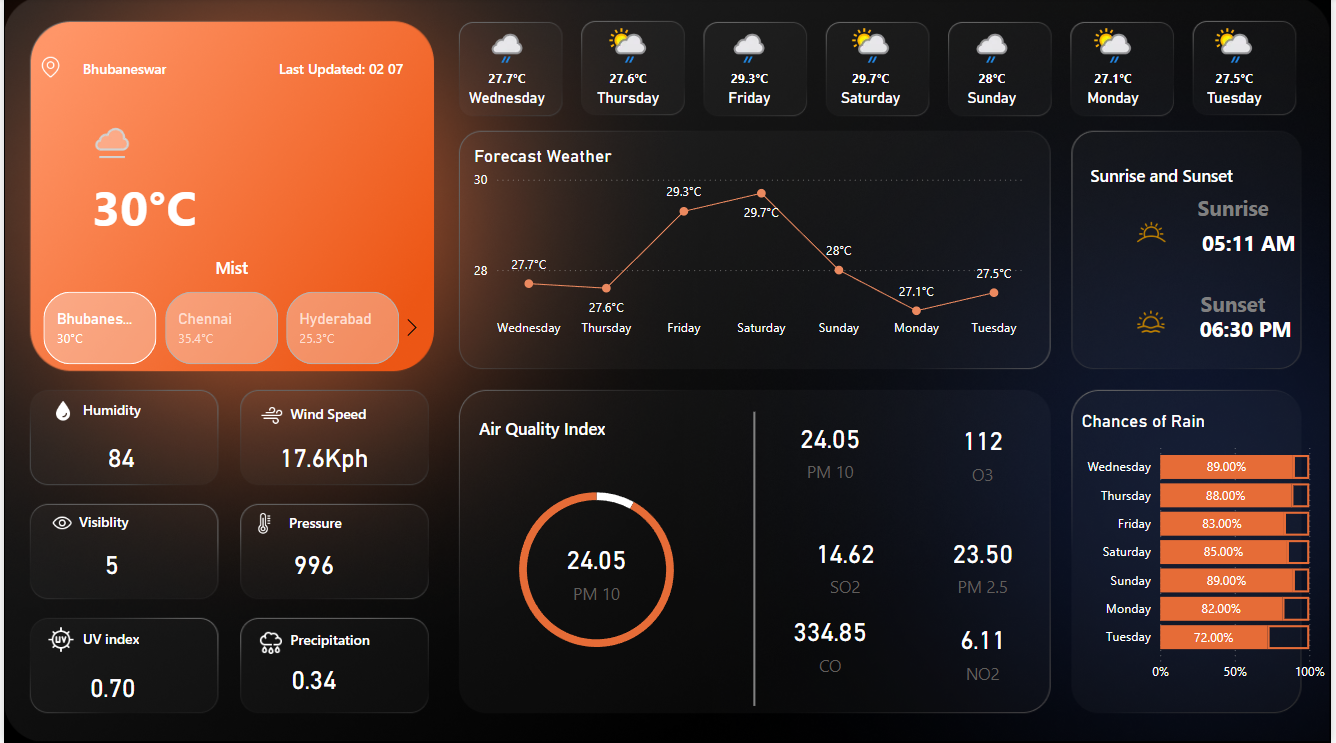

The dashboard page shown, as its layout file describes it:
{"tool":"powerbi","page":{"name":"Page 1","canvas":[1280,720],"ordinal":0},"visuals":[{"type":"advancedSlicerVisual","fields":{"Values":["Locations.location.name"]},"box":[13,278.7,395.9,80.7],"z":0},{"type":"shape","box":[30,164.1,211,74.2],"z":1000},{"type":"shape","box":[30,238.3,379,40.4],"z":2000},{"type":"shape","box":[75.5,57.3,135.5,22.1],"z":3000},{"type":"shape","box":[240.9,56,168,23.4],"z":4000},{"type":"image","box":[30,49.5,30,35.2],"z":5000},{"type":"cardVisual","fields":{"Data":["Min(Current.current.condition.icon)"]},"box":[59.9,93.8,92.5,89.9],"z":6000},{"type":"image","box":[37.8,491,37.8,31.3],"z":7000},{"type":"shape","box":[72.9,491,100.3,27.4],"z":8000},{"type":"image","box":[240.9,386.8,33.9,31.3],"z":9000},{"type":"shape","box":[276.1,386.8,100.3,27.4],"z":10000},{"type":"image","box":[37.8,600.4,35.2,36.5],"z":11000},{"type":"shape","box":[75.5,604.3,100.3,27.4],"z":12000},{"type":"image","box":[237,604.3,43,36.5],"z":13000},{"type":"shape","box":[276.1,605.6,100.3,27.4],"z":14000},{"type":"image","box":[226.6,492.3,48.2,30],"z":15000},{"type":"shape","box":[274.8,492.3,100.3,27.4],"z":16000},{"type":"image","box":[40.4,384.2,35.2,30],"z":17000},{"type":"shape","box":[75.5,384.2,100.3,27.4],"z":18000},{"type":"card","fields":{"Values":["Sum(Current.current.humidity)"]},"box":[56,418.1,115.9,49.5],"z":19000},{"type":"card","fields":{"Values":["_Measures.Wind_Speed"]},"box":[251.4,418.1,115.9,49.5],"z":20000},{"type":"card","fields":{"Values":["Sum(Current.current.vis_km)"]},"box":[45.6,522.3,115.9,49.5],"z":21000},{"type":"card","fields":{"Values":["Sum(Current.current.pressure_mb)"]},"box":[240.9,522.3,115.9,49.5],"z":22000},{"type":"card","fields":{"Values":["Sum(Current.current.uv)"]},"box":[46.9,640.8,115.9,49.5],"z":23000},{"type":"card","fields":{"Values":["Sum(Current.current.precip_mm)"]},"box":[240.9,633,115.9,49.5],"z":24000},{"type":"advancedSlicerVisual","fields":{"Values":["Forecast_Day.Day_Name"]},"box":[425.9,16.9,824.4,101.6],"z":25000},{"type":"lineChart","title":"Forecast Weather","fields":{"Y":["Sum(Forecast_Day.forecast.forecastday.day.avgtemp_c)"],"Category":["Forecast_Day.Day_Name"]},"box":[449.3,142,541.8,194.1],"z":26000},{"type":"shape","box":[1048.4,156.3,138.1,27.4],"z":27000},{"type":"shape","box":[1148.7,212.3,105.5,46.9],"z":28000},{"type":"shape","box":[1146.1,294.3,104.2,48.2],"z":29000},{"type":"shape","box":[1148.7,186.2,75.5,32.6],"z":30000},{"type":"shape","box":[1148.7,276.1,75.5,36.5],"z":31000},{"type":"image","box":[1071.9,294.3,71.6,36.5],"z":32000},{"type":"image","box":[1071.9,203.2,71.6,46.9],"z":33000},{"type":"hundredPercentStackedBarChart","title":"Chances of Rain ","fields":{"Y":["Sum(Forecast_Day.forecast.forecastday.day.daily_chance_of_rain)","Current.Left_value_rain"],"Category":["Forecast_Day.Day_Name"]},"box":[1035.4,398.5,244.9,270.9],"z":34000},{"type":"shape","box":[458.4,398.5,138.1,32.6],"z":35000},{"type":"card","title":"CO","fields":{"Values":["Sum(Current.current.air_quality.co)"]},"box":[739.8,587.4,115.9,70.3],"z":36000},{"type":"card","title":"CO","fields":{"Values":["Sum(Current.current.air_quality.pm10)"]},"box":[739.8,401.1,115.9,70.3],"z":37000},{"type":"card","title":"CO","fields":{"Values":["Sum(Current.current.air_quality.pm2_5)"]},"box":[886.9,511.8,115.9,70.3],"z":38000},{"type":"card","title":"CO","fields":{"Values":["Sum(Current.current.air_quality.no2)"]},"box":[886.9,595.2,115.9,70.3],"z":39000},{"type":"card","title":"CO","fields":{"Values":["Sum(Current.current.air_quality.so2)"]},"box":[754.1,511.8,115.9,70.3],"z":40000},{"type":"card","title":"CO","fields":{"Values":["Sum(Current.current.air_quality.o3)"]},"box":[886.9,402.4,115.9,70.3],"z":41000},{"type":"shape","box":[695.5,399.8,58.6,283.9],"z":42000},{"type":"card","title":"CO","fields":{"Values":["Sum(Current.current.air_quality.pm10)"]},"box":[514.5,517.1,115.9,70.3],"z":43000},{"type":"donutChart","title":"CO","fields":{"Y":["Sum(Current.current.air_quality.pm10)","_Measures.Left_value_PM10"]},"box":[414.2,453.2,316.5,196.7],"z":44000}]}

Visuals, with their boxes in screenshot pixels (x1, y1, x2, y2), scaled from the page's 1280x720 canvas onto the 1336x743 screenshot:
advancedSlicerVisual - Locations.location.name: bbox(14, 288, 427, 371)
shape: bbox(31, 169, 252, 246)
shape: bbox(31, 246, 427, 288)
shape: bbox(79, 59, 220, 82)
shape: bbox(251, 58, 427, 82)
image: bbox(31, 51, 63, 87)
cardVisual - Min(Current.current.condition.icon): bbox(63, 97, 159, 190)
image: bbox(39, 507, 79, 539)
shape: bbox(76, 507, 181, 535)
image: bbox(251, 399, 287, 431)
shape: bbox(288, 399, 393, 427)
image: bbox(39, 620, 76, 657)
shape: bbox(79, 624, 183, 652)
image: bbox(247, 624, 292, 661)
shape: bbox(288, 625, 393, 653)
image: bbox(237, 508, 287, 539)
shape: bbox(287, 508, 392, 536)
image: bbox(42, 396, 79, 427)
shape: bbox(79, 396, 183, 425)
card - Sum(Current.current.humidity): bbox(58, 431, 179, 483)
card - _Measures.Wind_Speed: bbox(262, 431, 383, 483)
card - Sum(Current.current.vis_km): bbox(48, 539, 169, 590)
card - Sum(Current.current.pressure_mb): bbox(251, 539, 372, 590)
card - Sum(Current.current.uv): bbox(49, 661, 170, 712)
card - Sum(Current.current.precip_mm): bbox(251, 653, 372, 704)
advancedSlicerVisual - Forecast_Day.Day_Name: bbox(445, 17, 1305, 122)
"Forecast Weather" lineChart: bbox(469, 147, 1034, 347)
shape: bbox(1094, 161, 1238, 190)
shape: bbox(1199, 219, 1309, 267)
shape: bbox(1196, 304, 1305, 353)
shape: bbox(1199, 192, 1278, 226)
shape: bbox(1199, 285, 1278, 323)
image: bbox(1119, 304, 1194, 341)
image: bbox(1119, 210, 1194, 258)
"Chances of Rain " hundredPercentStackedBarChart: bbox(1081, 411, 1335, 691)
shape: bbox(478, 411, 623, 445)
"CO" card: bbox(772, 606, 893, 679)
"CO" card: bbox(772, 414, 893, 486)
"CO" card: bbox(926, 528, 1047, 601)
"CO" card: bbox(926, 614, 1047, 687)
"CO" card: bbox(787, 528, 908, 601)
"CO" card: bbox(926, 415, 1047, 488)
shape: bbox(726, 413, 787, 706)
"CO" card: bbox(537, 534, 658, 606)
"CO" donutChart: bbox(432, 468, 763, 671)
